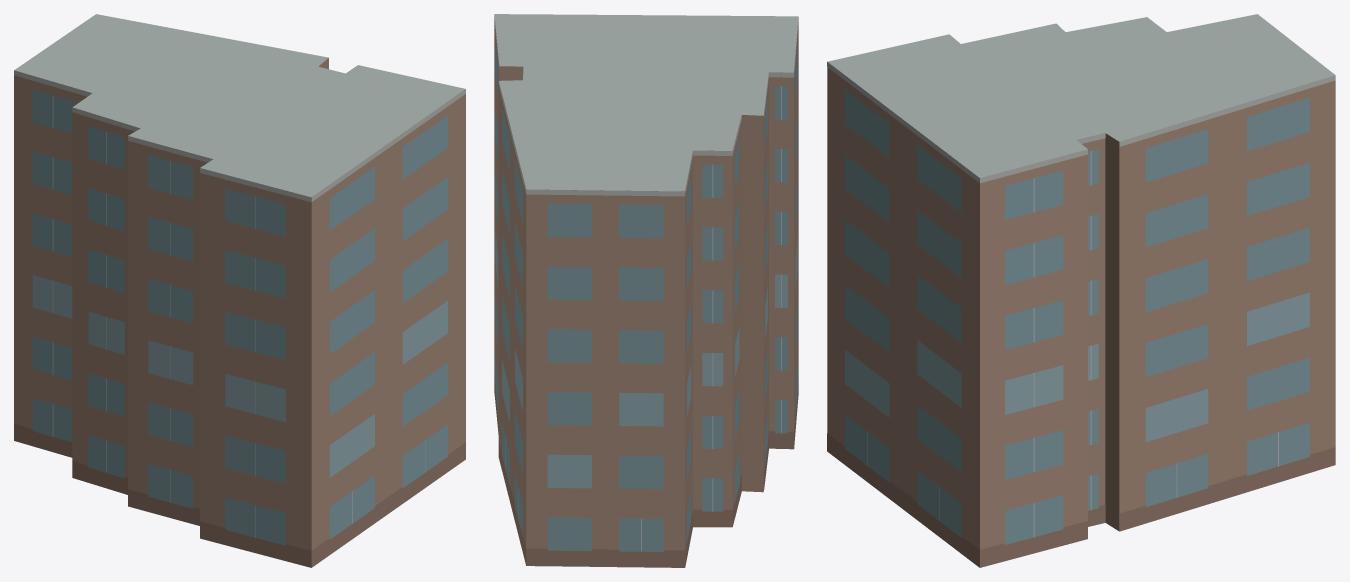
Rendered from survey-upis-32909513.glb.
The picture shows the model from 3 angles, left to right: view 1: azimuth 30°, elevation 25°; view 2: azimuth 150°, elevation 25°; view 3: azimuth 270°, elevation 25°; orthographic projection. The views are drawn at different scales.
Visible parts, largest first — view 1: survey-upis-32909513.tmp; view 2: survey-upis-32909513.tmp; view 3: survey-upis-32909513.tmp.
Part boxes in pixels (box(x1,y1,x2,y2)): survey-upis-32909513.tmp: box(14, 14, 465, 567); survey-upis-32909513.tmp: box(494, 14, 798, 567); survey-upis-32909513.tmp: box(827, 14, 1335, 567).
Size of the model in its own units: 16.54 by 18.3 by 21.65.
